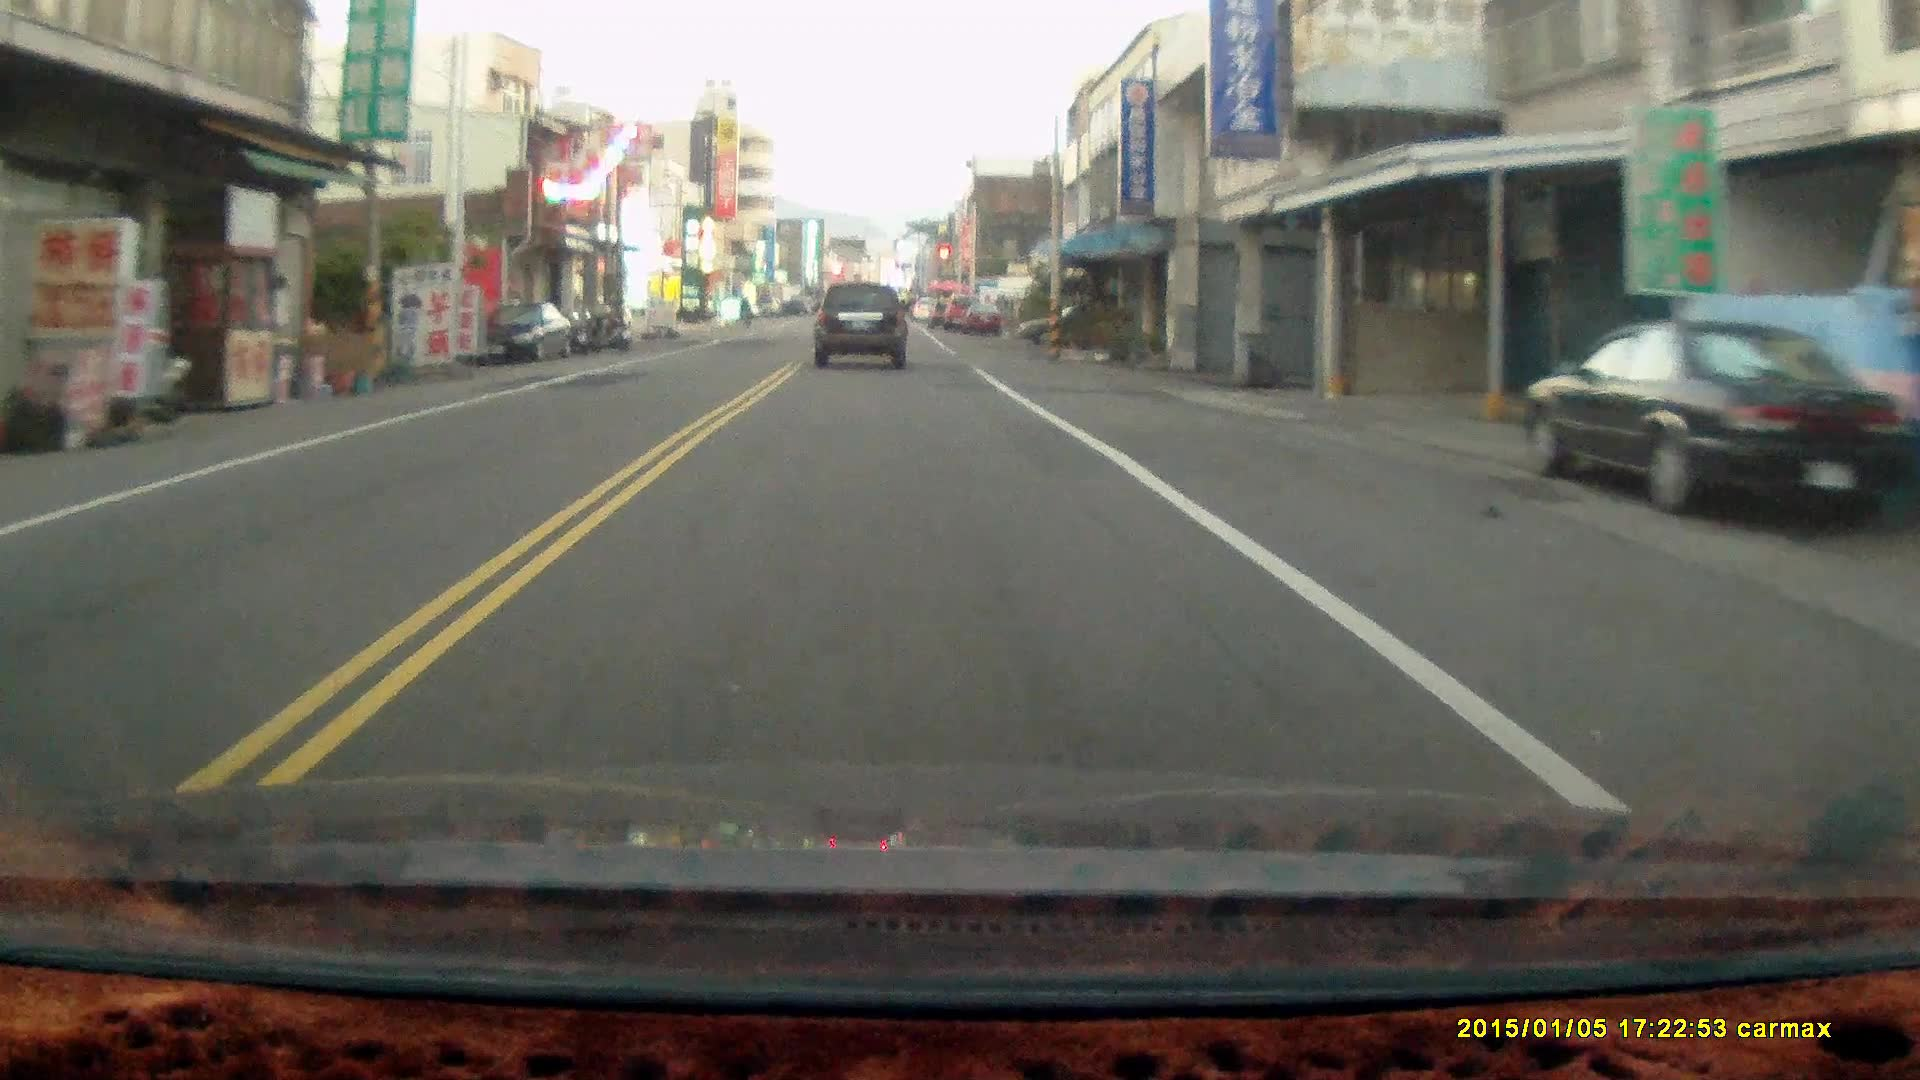vehicle: (1520, 316, 1915, 530), (814, 284, 910, 375)
